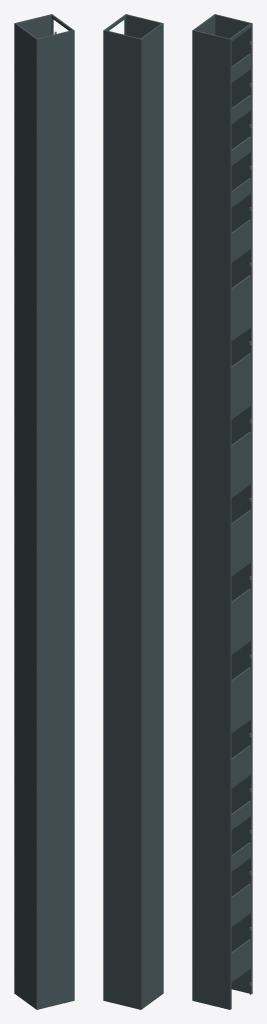
File: AST-STF-G3-032.glb
The picture shows the model from 3 angles, left to right: view 1: azimuth 30°, elevation 25°; view 2: azimuth 150°, elevation 25°; view 3: azimuth 330°, elevation 25°; orthographic projection.
Parts seen in each view (by area): view 1: shaft_architecture_staff_bluegrey_paint_y12, shaft_architecture_staff_bluegrey_paint_y0, shaft_architecture_staff_bluegrey_paint_y7, shaft_architecture_staff_bluegrey_paint_y2, shaft_architecture_staff_bluegrey_paint_y11, shaft_architecture_staff_bluegrey_paint_y3, shaft_architecture_staff_bluegrey_paint_y8, shaft_architecture_staff_bluegrey_paint_y4, shaft_architecture_staff_bluegrey_paint_y5, shaft_architecture_staff_bluegrey_paint_y6, shaft_architecture_staff_bluegrey_paint_y1, shaft_architecture_staff_bluegrey_paint_y9 (+2 smaller); view 2: shaft_architecture_staff_bluegrey_paint_y12, shaft_architecture_staff_bluegrey_paint_y0, shaft_architecture_staff_bluegrey_paint_y7, shaft_architecture_staff_bluegrey_paint_y2, shaft_architecture_staff_bluegrey_paint_y11, shaft_architecture_staff_bluegrey_paint_y3, shaft_architecture_staff_bluegrey_paint_y8, shaft_architecture_staff_bluegrey_paint_y4, shaft_architecture_staff_bluegrey_paint_y5, shaft_architecture_staff_bluegrey_paint_y6, shaft_architecture_staff_bluegrey_paint_y9, shaft_architecture_staff_bluegrey_paint_y1 (+2 smaller); view 3: shaft_architecture_staff_bluegrey_paint_y2, shaft_architecture_staff_bluegrey_paint_y5, shaft_architecture_staff_bluegrey_paint_y6, shaft_architecture_staff_bluegrey_paint_y7, shaft_architecture_staff_bluegrey_paint_y0, shaft_architecture_staff_bluegrey_paint_y11, shaft_architecture_staff_bluegrey_paint_y3, shaft_architecture_staff_bluegrey_paint_y9, shaft_architecture_staff_bluegrey_paint_y4, shaft_architecture_staff_bluegrey_paint_y12, shaft_architecture_staff_bluegrey_paint_y1, shaft_architecture_staff_bluegrey_paint_y10 (+2 smaller).
Part boxes in pixels (bbox=[...]): shaft_architecture_staff_bluegrey_paint_y12: bbox=[14, 14, 74, 124]; shaft_architecture_staff_bluegrey_paint_y0: bbox=[14, 890, 74, 1009]; shaft_architecture_staff_bluegrey_paint_y7: bbox=[14, 360, 74, 493]; shaft_architecture_staff_bluegrey_paint_y2: bbox=[14, 751, 74, 862]; shaft_architecture_staff_bluegrey_paint_y11: bbox=[14, 101, 74, 197]; shaft_architecture_staff_bluegrey_paint_y3: bbox=[14, 673, 74, 788]; shaft_architecture_staff_bluegrey_paint_y8: bbox=[14, 281, 74, 419]; shaft_architecture_staff_bluegrey_paint_y4: bbox=[14, 595, 74, 714]; shaft_architecture_staff_bluegrey_paint_y5: bbox=[14, 516, 74, 640]; shaft_architecture_staff_bluegrey_paint_y6: bbox=[14, 438, 74, 566]; shaft_architecture_staff_bluegrey_paint_y1: bbox=[14, 846, 74, 935]; shaft_architecture_staff_bluegrey_paint_y9: bbox=[14, 226, 74, 345]; shaft_architecture_staff_bluegrey_paint_y12: bbox=[103, 14, 163, 124]; shaft_architecture_staff_bluegrey_paint_y0: bbox=[103, 890, 163, 1009]; shaft_architecture_staff_bluegrey_paint_y7: bbox=[103, 359, 163, 493]; shaft_architecture_staff_bluegrey_paint_y2: bbox=[103, 752, 163, 862]; shaft_architecture_staff_bluegrey_paint_y11: bbox=[103, 101, 163, 197]; shaft_architecture_staff_bluegrey_paint_y3: bbox=[103, 673, 163, 788]; shaft_architecture_staff_bluegrey_paint_y8: bbox=[103, 281, 163, 419]; shaft_architecture_staff_bluegrey_paint_y4: bbox=[103, 595, 163, 714]; shaft_architecture_staff_bluegrey_paint_y5: bbox=[103, 516, 163, 640]; shaft_architecture_staff_bluegrey_paint_y6: bbox=[103, 438, 163, 566]; shaft_architecture_staff_bluegrey_paint_y9: bbox=[103, 226, 163, 345]; shaft_architecture_staff_bluegrey_paint_y1: bbox=[103, 846, 163, 935]; shaft_architecture_staff_bluegrey_paint_y2: bbox=[192, 745, 252, 861]; shaft_architecture_staff_bluegrey_paint_y5: bbox=[192, 509, 252, 640]; shaft_architecture_staff_bluegrey_paint_y6: bbox=[192, 431, 252, 566]; shaft_architecture_staff_bluegrey_paint_y7: bbox=[192, 353, 252, 492]; shaft_architecture_staff_bluegrey_paint_y0: bbox=[192, 883, 252, 1009]; shaft_architecture_staff_bluegrey_paint_y11: bbox=[192, 94, 252, 197]; shaft_architecture_staff_bluegrey_paint_y3: bbox=[192, 666, 252, 788]; shaft_architecture_staff_bluegrey_paint_y9: bbox=[192, 219, 252, 345]; shaft_architecture_staff_bluegrey_paint_y4: bbox=[192, 588, 252, 714]; shaft_architecture_staff_bluegrey_paint_y12: bbox=[192, 23, 252, 123]; shaft_architecture_staff_bluegrey_paint_y1: bbox=[192, 841, 252, 935]; shaft_architecture_staff_bluegrey_paint_y10: bbox=[192, 177, 252, 271].
Size of the model in its own units: 4.46 by 105 by 4.4.
Materials: 2 (2 with a texture image).
